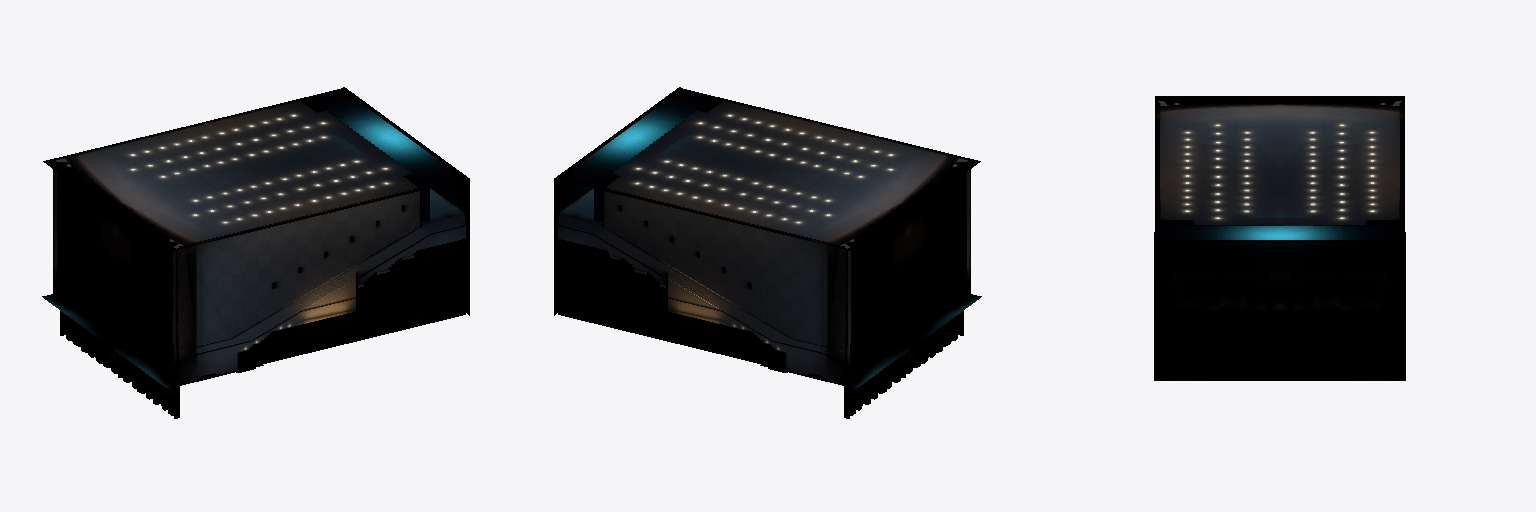
3 renders of one model, left to right at view 1: azimuth 30°, elevation 25°; view 2: azimuth 150°, elevation 25°; view 3: azimuth 270°, elevation 25°, orthographic.
Parts seen in each view (by area): view 1: SalaCinema_Low tectoChao, SalaCinema_Low paredes, Lowpoly_Posicionado1_Props SalaCinema_Low; view 2: SalaCinema_Low tectoChao, SalaCinema_Low paredes, Lowpoly_Posicionado1_Props SalaCinema_Low; view 3: SalaCinema_Low tectoChao.
Boxes of the visible parts, box(x1,y1,x2,y2) form: SalaCinema_Low tectoChao: box(42, 87, 469, 388); SalaCinema_Low paredes: box(59, 98, 465, 383); Lowpoly_Posicionado1_Props SalaCinema_Low: box(60, 250, 300, 418); SalaCinema_Low tectoChao: box(554, 87, 981, 388); SalaCinema_Low paredes: box(558, 98, 964, 383); Lowpoly_Posicionado1_Props SalaCinema_Low: box(723, 250, 963, 418); SalaCinema_Low tectoChao: box(1154, 96, 1405, 380).
Size of the model in its own units: 30423 by 16901 by 21945.
Materials: 4 (4 with a texture image).